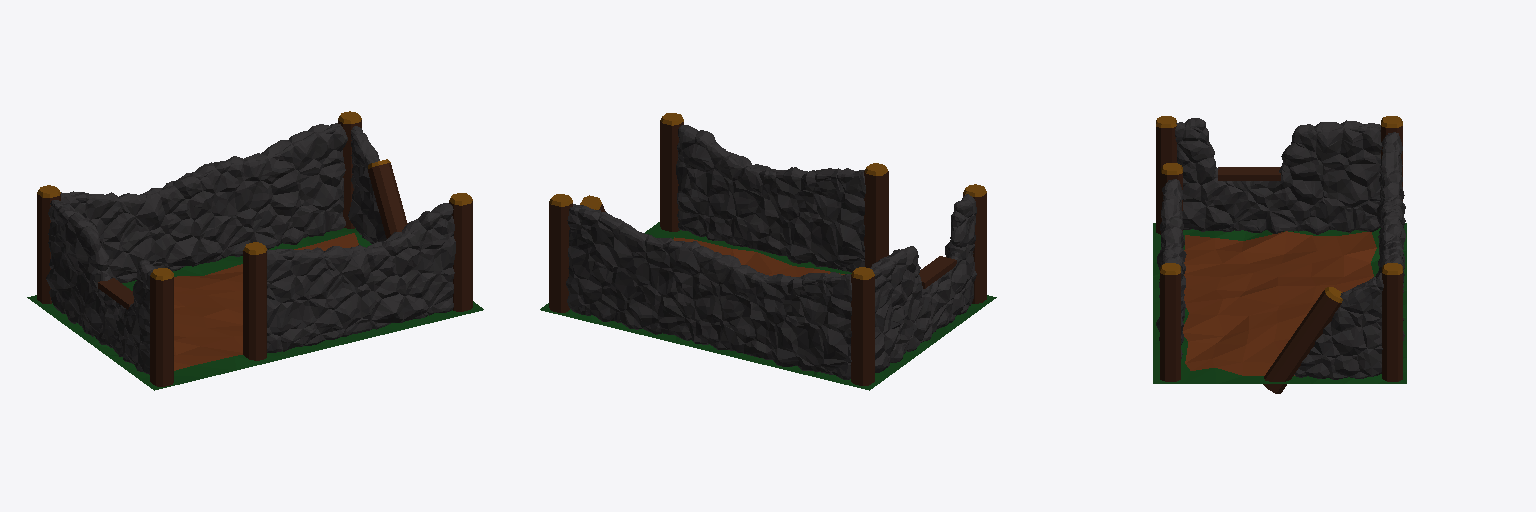
3 views of the same model, side by side, from view 1: azimuth 30°, elevation 25°; view 2: azimuth 150°, elevation 25°; view 3: azimuth 270°, elevation 25° (orthographic).
Parts seen in each view (by area): view 1: Plane.004; view 2: Plane.004; view 3: Plane.004.
Part boxes in pixels (left/top/right/bottom): Plane.004: left=27, top=111, right=483, bottom=390; Plane.004: left=540, top=113, right=996, bottom=390; Plane.004: left=1153, top=116, right=1406, bottom=393.
Size of the model in its own units: 6 by 2.17 by 4.
Materials: 1 (1 with a texture image).